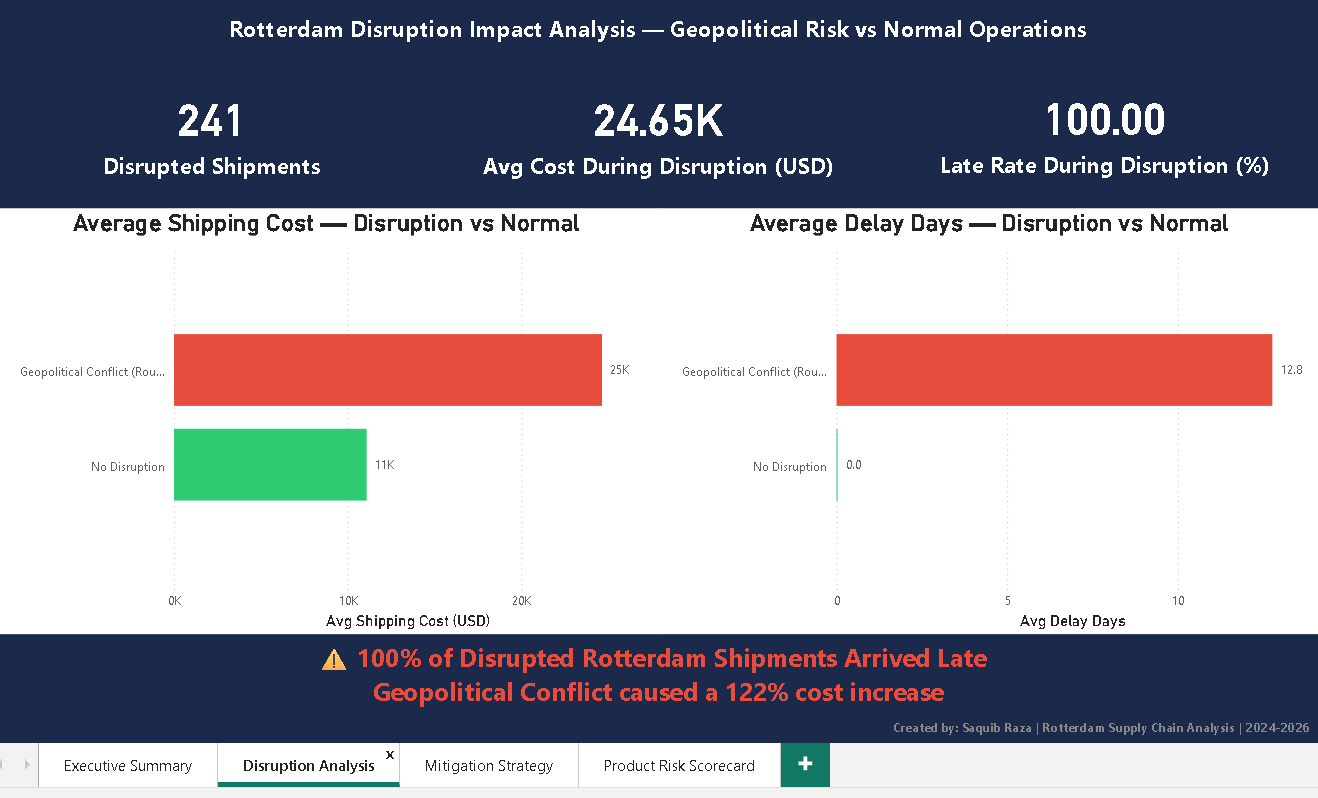

This screenshot's page, from the dashboard's own definition file:
{"tool":"powerbi","page":{"name":"Disruption Analysis","canvas":[1280,720],"ordinal":1},"visuals":[{"type":"textbox","box":[0,10,1280,67.5],"z":0},{"type":"card","fields":{"Values":["Sum(disruption.Total_Shipments)"]},"box":[0,53.8,418.8,150],"z":1000},{"type":"card","fields":{"Values":["Sum(disruption.Avg_Cost_USD)"]},"box":[418.8,53.8,443.8,150],"z":2000},{"type":"card","fields":{"Values":["Avg(disruption.Late_Percentage)"]},"box":[862.5,53.8,417.5,148.8],"z":3000},{"type":"clusteredBarChart","title":"Average Shipping Cost — Disruption vs Normal","fields":{"Category":["disruption.Disruption_Event"],"Y":["Avg(disruption.Avg_Cost_USD)"]},"box":[0,203.8,640,411.2],"z":4000},{"type":"clusteredBarChart","title":"Average Delay Days — Disruption vs Normal","fields":{"Category":["disruption.Disruption_Event"],"Y":["Avg(disruption.Avg_Delay_Days)"]},"box":[640,203.8,640,411.2],"z":5000},{"type":"textbox","box":[0,615.3,1280,105],"z":6000},{"type":"textbox","box":[862.6,690.1,416.2,30.2],"z":7000}]}

Visuals, with their boxes on the page's 1280x720 design canvas (x1, y1, x2, y2). These are canvas units, not pixel positions in the 1318x798 screenshot, which may show the page scaled, cropped or inside an application window:
textbox: [0, 10, 1280, 78]
card - Sum(disruption.Total_Shipments): [0, 54, 419, 204]
card - Sum(disruption.Avg_Cost_USD): [419, 54, 863, 204]
card - Avg(disruption.Late_Percentage): [862, 54, 1280, 203]
"Average Shipping Cost — Disruption vs Normal" clusteredBarChart: [0, 204, 640, 615]
"Average Delay Days — Disruption vs Normal" clusteredBarChart: [640, 204, 1280, 615]
textbox: [0, 615, 1280, 720]
textbox: [863, 690, 1279, 720]
